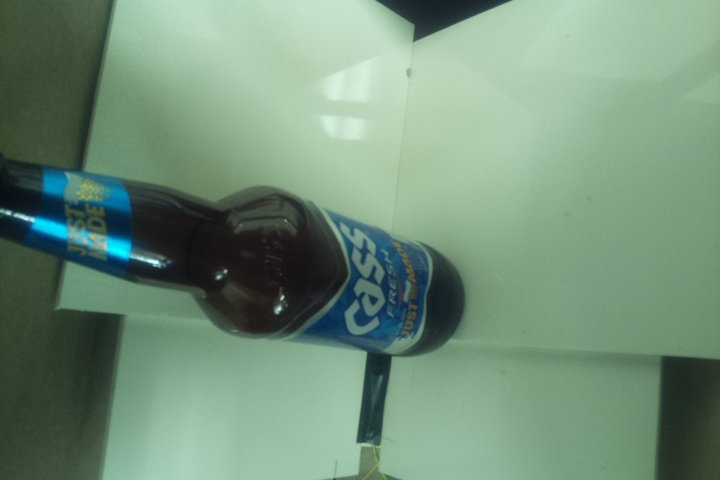makju: (1, 151, 467, 362)
